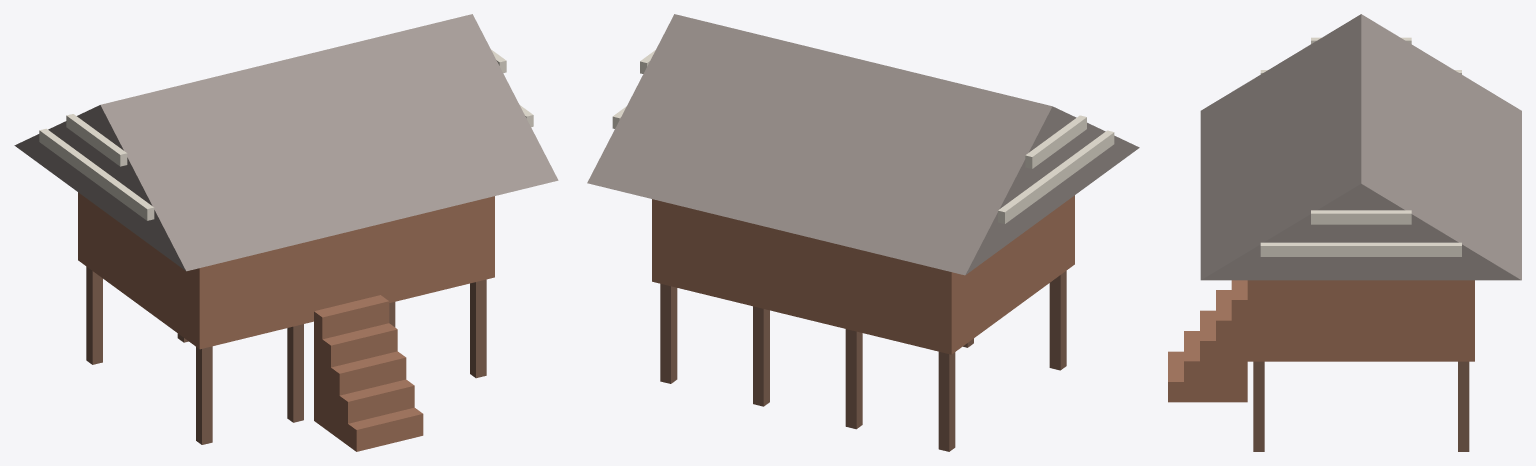
File: rumah_panggung.glb
3 views of the same model, side by side, from view 1: azimuth 30°, elevation 25°; view 2: azimuth 150°, elevation 25°; view 3: azimuth 270°, elevation 25° (orthographic). The views are drawn at different scales.
Parts seen in each view (by area): view 1: rp_atap, rp_badan, rp_lantai, rp_tangga_4, rp_tangga_3, rp_tangga_2, rp_tangga_1, rp_tangga_0, rp_timpalaja_0_kiri, rp_tiang_0, rp_tiang_6, rp_tiang_2 (+2 smaller); view 2: rp_atap, rp_badan, rp_lantai, rp_timpalaja_0_kiri, rp_tiang_1, rp_tiang_3, rp_tiang_7, rp_tiang_0, rp_tiang_5, rp_timpalaja_1_kiri; view 3: rp_atap, rp_badan, rp_timpalaja_0_kanan, rp_lantai, rp_tangga_4, rp_tangga_3, rp_timpalaja_1_kanan, rp_tangga_2, rp_tangga_1, rp_tiang_6, rp_tiang_7, rp_tangga_0.
Part boxes in pixels (<box>): rp_atap: <box>14,14,558,271</box>; rp_badan: <box>78,192,494,338</box>; rp_lantai: <box>78,250,494,349</box>; rp_tangga_4: <box>314,295,389,426</box>; rp_tangga_3: <box>322,323,397,432</box>; rp_tangga_2: <box>331,351,406,439</box>; rp_tangga_1: <box>339,379,414,445</box>; rp_tangga_0: <box>348,407,423,451</box>; rp_timpalaja_0_kiri: <box>39,128,154,220</box>; rp_tiang_0: <box>196,346,212,444</box>; rp_tiang_6: <box>470,279,486,378</box>; rp_tiang_2: <box>287,324,303,422</box>; rp_atap: <box>587,14,1139,275</box>; rp_badan: <box>652,195,1074,344</box>; rp_lantai: <box>652,254,1074,354</box>; rp_timpalaja_0_kiri: <box>998,130,1114,223</box>; rp_tiang_1: <box>938,351,955,451</box>; rp_tiang_3: <box>845,329,862,429</box>; rp_tiang_7: <box>660,283,677,383</box>; rp_tiang_0: <box>1049,271,1066,370</box>; rp_tiang_5: <box>753,306,769,406</box>; rp_timpalaja_1_kiri: <box>1025,115,1086,168</box>; rp_atap: <box>1200,14,1521,280</box>; rp_badan: <box>1247,280,1474,351</box>; rp_timpalaja_0_kanan: <box>1260,242,1461,256</box>; rp_lantai: <box>1247,352,1474,361</box>; rp_tangga_4: <box>1231,280,1247,402</box>; rp_tangga_3: <box>1216,290,1231,402</box>; rp_timpalaja_1_kanan: <box>1311,210,1411,224</box>; rp_tangga_2: <box>1200,310,1215,402</box>; rp_tangga_1: <box>1184,331,1199,402</box>; rp_tiang_6: <box>1253,361,1264,451</box>; rp_tiang_7: <box>1458,361,1469,451</box>; rp_tangga_0: <box>1168,351,1183,402</box>.
Bounding box in the file's own units: 5.5 × 4.2 × 4.67.
